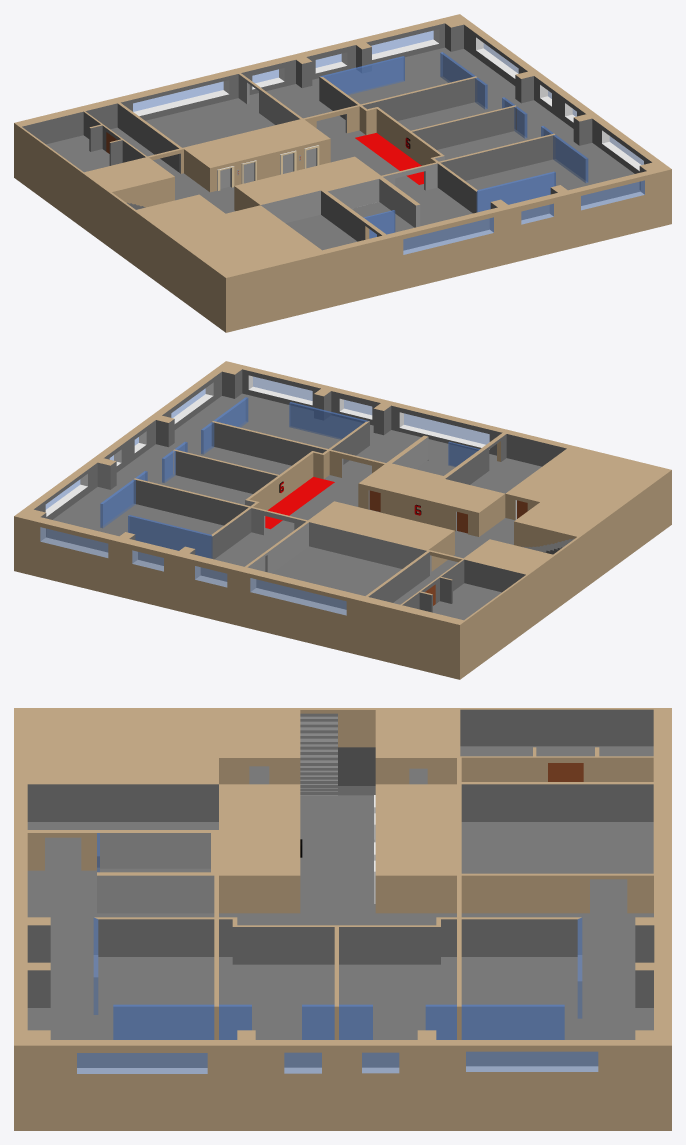
Rendered from 6F-coloredNhan.gltf.
3 views of the same model, one above another, from view 1: azimuth 30°, elevation 25°; view 2: azimuth 150°, elevation 25°; view 3: azimuth 270°, elevation 25° (orthographic). The views are drawn at different scales.
Visible parts, largest first — view 1: root; view 2: root; view 3: root.
Part boxes in pixels (x1,y1,x2,y2): root: (14,14,671,332); root: (14,361,671,679); root: (14,708,671,1130).
Size of the model in its own units: 44.7 by 5.25 by 36.81.
